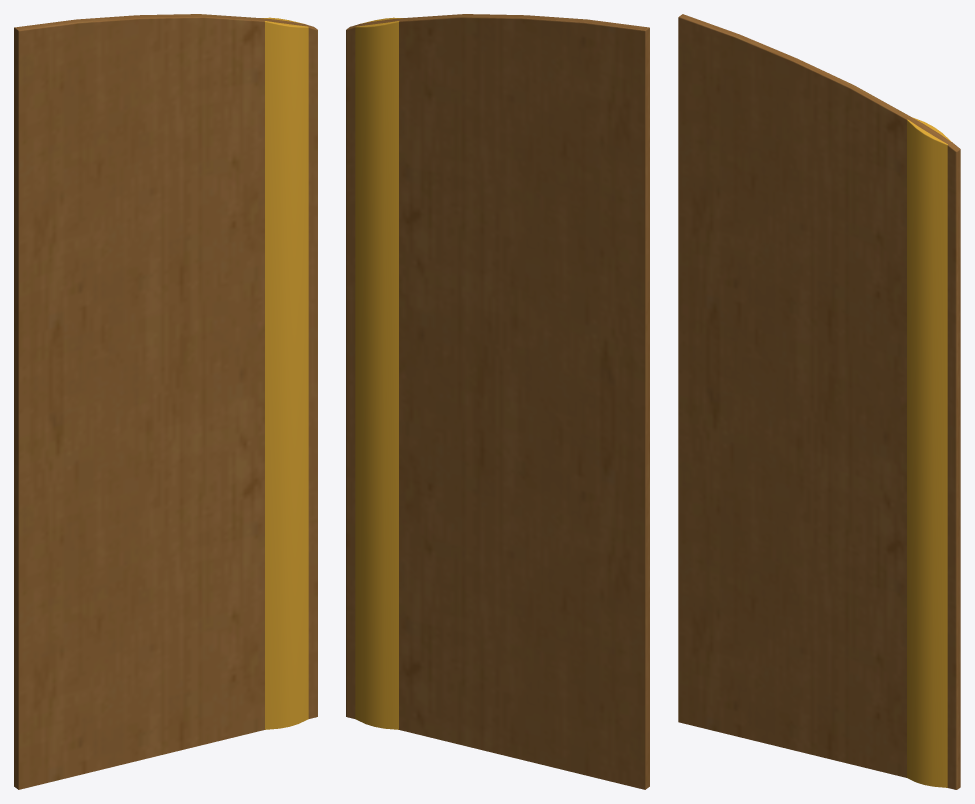
Rendered from ShelfWoodElement.fbx.
The picture shows the model from 3 angles, left to right: view 1: azimuth 30°, elevation 25°; view 2: azimuth 150°, elevation 25°; view 3: azimuth 330°, elevation 25°; orthographic projection. The views are drawn at different scales.
Parts seen in each view (by area): view 1: ShelfWoodElement; view 2: ShelfWoodElement; view 3: ShelfWoodElement.
Boxes of the visible parts, x1,y1,x2,y2 form: ShelfWoodElement: (14,14,317,789); ShelfWoodElement: (346,14,649,789); ShelfWoodElement: (678,14,960,789).
Bounding box in the file's own units: 62.62 × 3.86 × 152.
Materials: 2 (1 with a texture image).
